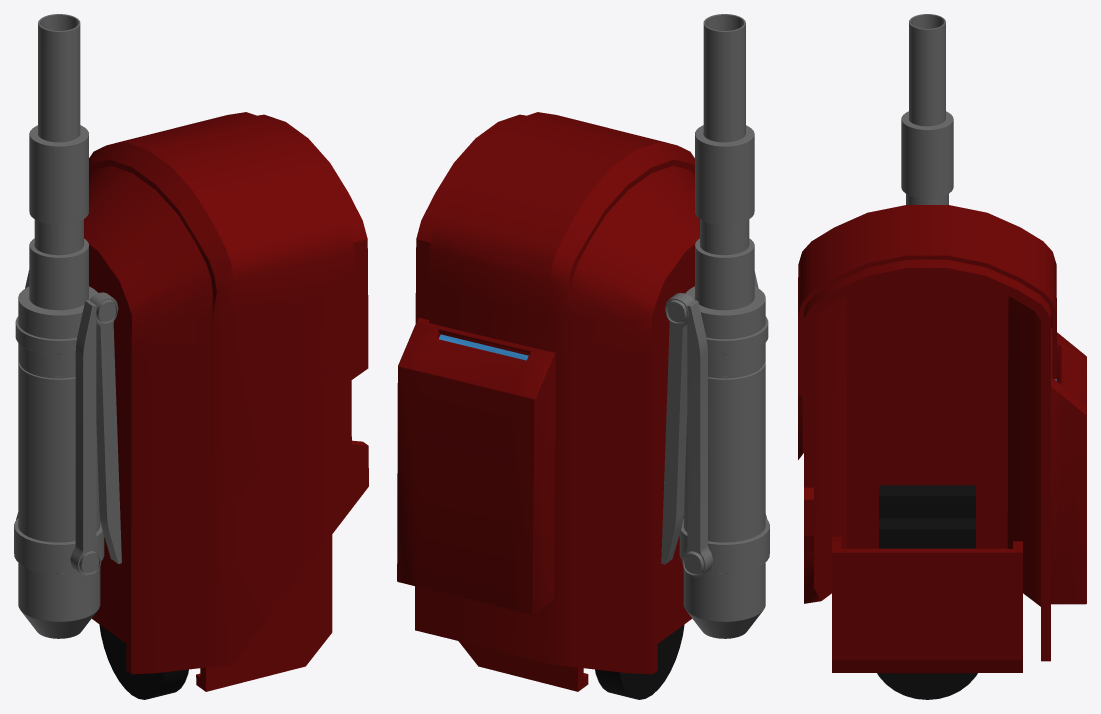
Rendered from r_upperarm.obj.
The picture shows the model from 3 angles, left to right: view 1: azimuth 30°, elevation 25°; view 2: azimuth 150°, elevation 25°; view 3: azimuth 270°, elevation 25°; orthographic projection. The views are drawn at different scales.
Visible parts, largest first — view 1: r_upperarm; view 2: r_upperarm; view 3: r_upperarm.
Part boxes in pixels (x1,y1,x2,y2): r_upperarm: (14, 14, 368, 699); r_upperarm: (397, 14, 769, 699); r_upperarm: (798, 14, 1086, 699).
Size of the model in its own units: 0.6206 by 1.47 by 0.6374.
